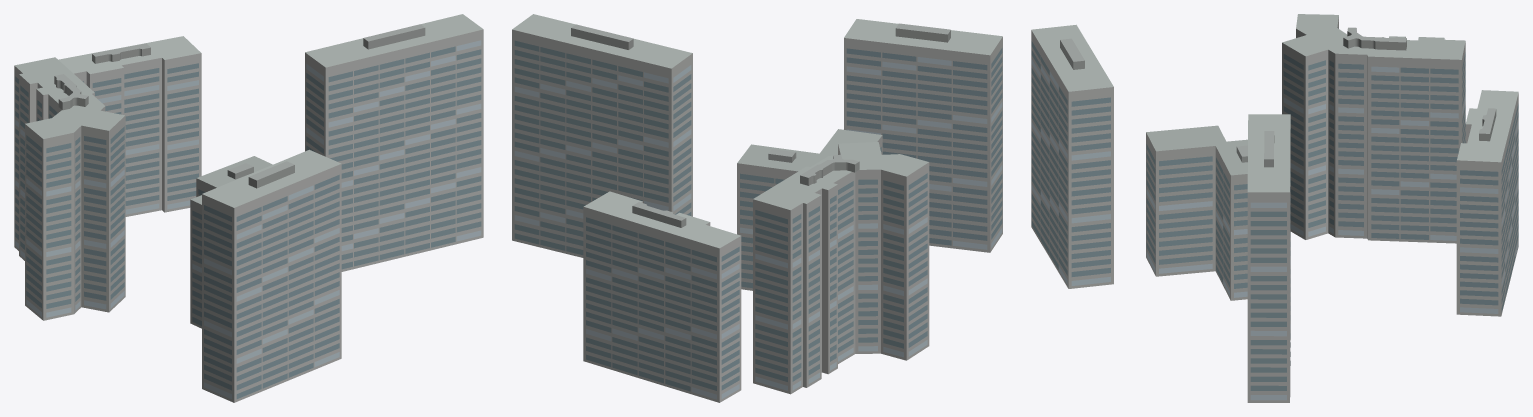
Rendered from apt-a10024812.glb.
3 views of the same model, side by side, from view 1: azimuth 30°, elevation 25°; view 2: azimuth 150°, elevation 25°; view 3: azimuth 270°, elevation 25° (orthographic).
Parts seen in each view (by area): view 1: apt-a10024812; view 2: apt-a10024812; view 3: apt-a10024812.
Boxes of the visible parts, bbox=[...] form: apt-a10024812: bbox=[14, 14, 483, 402]; apt-a10024812: bbox=[512, 14, 1002, 402]; apt-a10024812: bbox=[1031, 14, 1518, 402].
Bounding box in the file's own units: 131 × 65 × 131.
